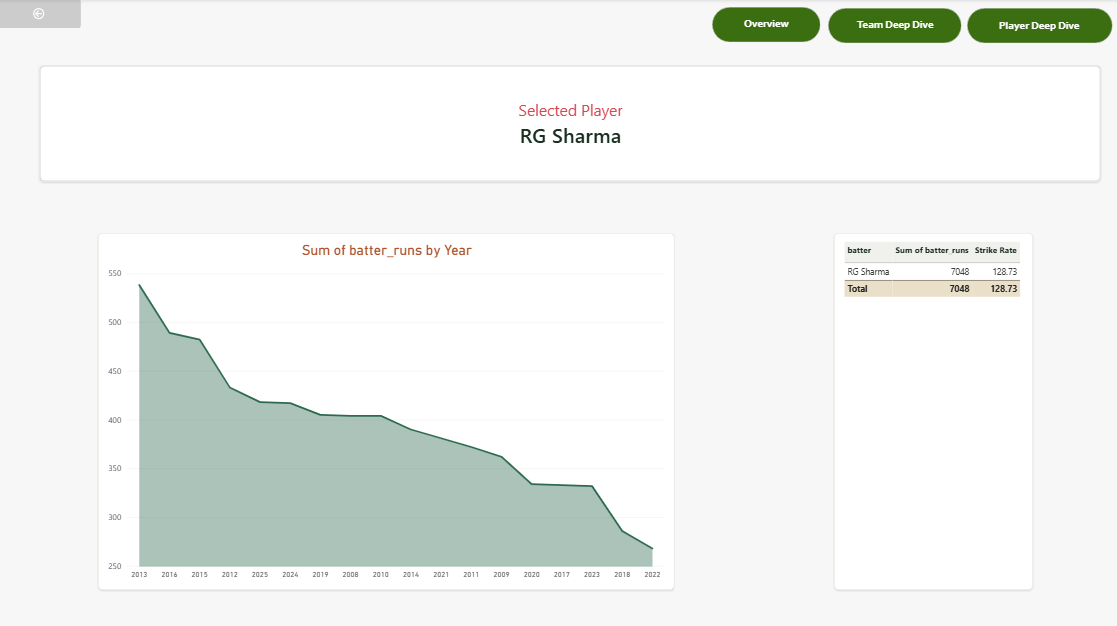

The page's visual inventory and layout, read from the dashboard file:
{"tool":"powerbi","page":{"name":"Player Deep Dive","canvas":[1920,1080],"ordinal":6},"visuals":[{"type":"cardVisual","fields":{"Data":["players-data-updated.Selected Player"]},"box":[53.7,135.2,1815,200],"z":0},{"type":"lineChart","fields":{"Category":["DateTable.Year"],"Y":["Sum(ball_by_ball_data.batter_runs)"]},"box":[174.3,399.9,985,610.1],"z":1000},{"type":"tableEx","fields":{"Values":["ball_by_ball_data.batter","Sum(ball_by_ball_data.batter_runs)","ball_by_ball_data.Strike Rate"]},"box":[1432,399.9,340.1,610.1],"z":2000},{"type":"actionButton","box":[0,0,145.3,50],"z":3000},{"type":"group","id":"g1","title":"Group 4","box":[1182.5,8.5,685.3,61.5],"z":4001},{"type":"actionButton","box":[1182.5,8.5,185.4,60.2],"z":6000,"group":"g4"},{"type":"group","id":"g2","title":"Group 2","box":[1369.9,10.2,250,60],"z":6000,"group":"g1"},{"type":"actionButton","box":[1381,10.2,228.4,60.2],"z":6000,"group":"g2"},{"type":"actionButton","box":[1618.3,10.2,248.8,60.2],"z":6000,"group":"g3"},{"type":"textbox","box":[1211.4,24.4,127.6,28.4],"z":7000,"group":"g4"},{"type":"textbox","box":[1369.9,26.1,250.5,28.4],"z":7000,"group":"g2"},{"type":"group","id":"g3","title":"Group 3","box":[1618.3,10.2,249.5,59.8],"z":7750,"group":"g1"},{"type":"group","id":"g4","title":"Group 1","box":[1182.5,8.5,185,60],"z":8000,"group":"g1"},{"type":"textbox","box":[1673,26.6,139.5,27.4],"z":11000,"group":"g3"}]}

Visuals, with their boxes in screenshot pixels (x1, y1, x2, y2), scaled from the page's 1920x1080 canvas onto the 1117x626 screenshot:
cardVisual - players-data-updated.Selected Player: <box>31,78,1087,194</box>
lineChart - DateTable.Year x Sum(ball_by_ball_data.batter_runs): <box>101,232,674,585</box>
tableEx - ball_by_ball_data.batter x Sum(ball_by_ball_data.batter_runs): <box>833,232,1031,585</box>
actionButton: <box>0,0,85,29</box>
"Group 4" group: <box>688,5,1087,41</box>
actionButton: <box>688,5,796,40</box>
"Group 2" group: <box>797,6,942,41</box>
actionButton: <box>803,6,936,41</box>
actionButton: <box>941,6,1086,41</box>
textbox: <box>705,14,779,31</box>
textbox: <box>797,15,943,32</box>
"Group 3" group: <box>941,6,1087,41</box>
"Group 1" group: <box>688,5,796,40</box>
textbox: <box>973,15,1054,31</box>
